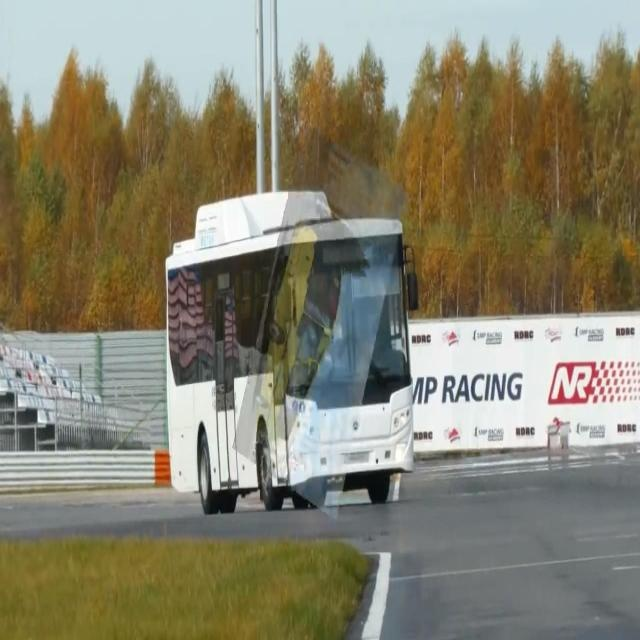Bus: (148, 176, 434, 560)
